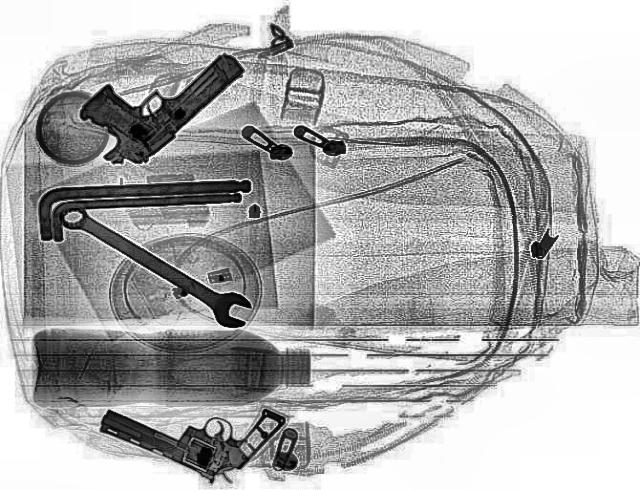Gun: (49, 22, 259, 176), (88, 357, 288, 489)
Wrench: (42, 194, 262, 332)
